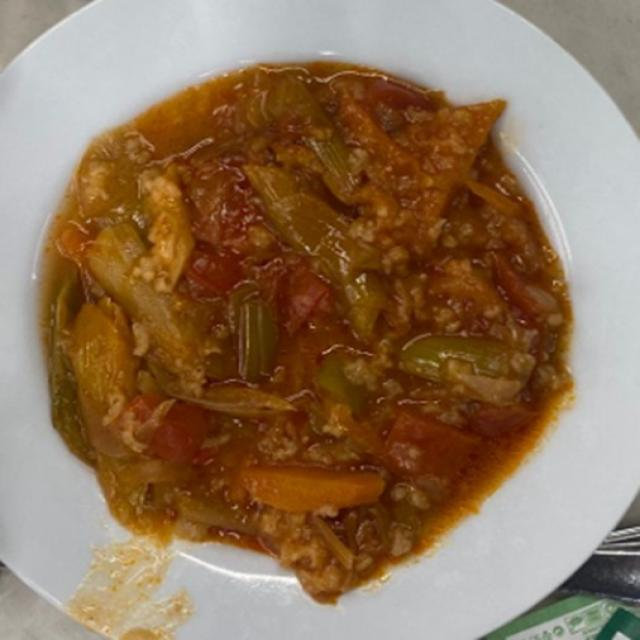ana_yemek: (16, 4, 640, 620)
